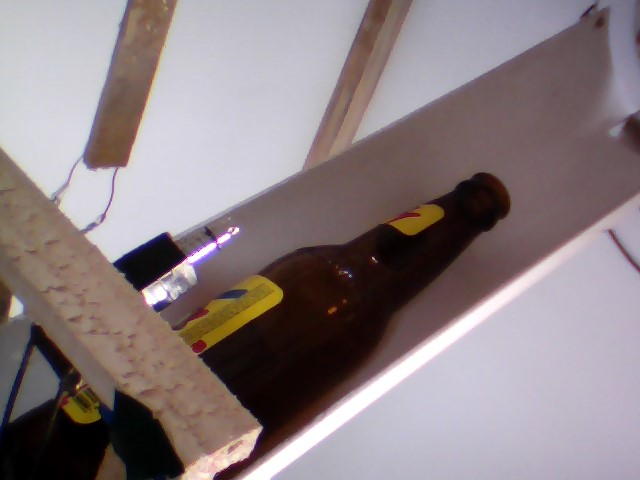vidrio: (190, 167, 523, 443)
